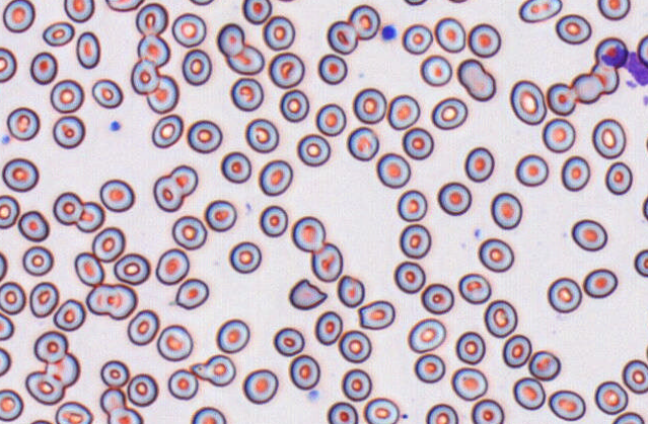PLT: (382, 23, 397, 42), (308, 389, 322, 404), (109, 118, 123, 132), (0, 133, 12, 146)
RBC: (85, 282, 137, 320), (456, 58, 496, 101), (509, 79, 546, 125), (591, 118, 626, 159), (192, 354, 236, 386), (407, 317, 446, 353), (156, 324, 193, 361), (25, 370, 64, 405), (310, 241, 343, 282), (268, 51, 304, 88), (1, 157, 39, 192), (146, 74, 179, 114), (242, 368, 278, 404), (258, 159, 293, 196), (450, 366, 487, 401), (547, 276, 582, 313), (477, 237, 514, 272), (155, 247, 189, 285), (483, 299, 517, 337), (376, 152, 411, 188), (171, 215, 207, 250), (244, 117, 279, 153), (291, 215, 325, 252), (352, 87, 386, 124), (49, 78, 84, 113), (171, 12, 206, 47), (215, 318, 250, 353), (91, 226, 125, 262), (99, 178, 135, 212), (467, 22, 501, 58), (431, 96, 467, 130), (386, 94, 420, 130), (186, 119, 222, 153), (126, 308, 159, 345), (113, 252, 150, 285), (226, 43, 264, 75), (490, 191, 522, 229), (46, 352, 80, 387), (594, 380, 628, 415), (6, 106, 40, 141), (347, 4, 380, 40), (542, 117, 575, 153), (571, 218, 607, 251), (555, 13, 592, 45), (548, 389, 585, 421), (434, 16, 466, 53), (357, 299, 395, 330), (337, 329, 371, 363), (514, 153, 548, 187), (437, 181, 471, 215), (33, 330, 68, 363), (262, 15, 295, 50), (346, 126, 379, 161), (398, 223, 431, 258), (288, 354, 320, 390), (181, 48, 212, 85), (135, 2, 168, 36), (512, 376, 545, 410), (230, 77, 263, 111), (52, 115, 85, 149), (296, 133, 330, 166), (151, 113, 183, 148), (582, 267, 618, 298), (153, 175, 183, 212), (137, 34, 170, 67), (52, 298, 85, 331), (2, 0, 35, 33), (228, 240, 261, 273), (204, 199, 237, 232), (594, 36, 628, 68), (126, 373, 158, 407), (326, 20, 358, 54), (175, 277, 209, 309), (401, 126, 433, 160), (420, 282, 454, 314), (29, 281, 59, 317), (560, 155, 590, 191), (464, 146, 494, 182), (419, 54, 452, 86), (458, 272, 491, 304), (393, 260, 425, 293), (52, 191, 83, 225), (546, 82, 577, 116), (315, 102, 346, 136), (74, 251, 104, 286), (130, 58, 159, 94), (17, 210, 49, 242), (570, 72, 603, 103), (341, 368, 372, 401), (279, 88, 309, 122), (502, 333, 531, 368), (518, 0, 562, 23), (167, 368, 198, 400), (220, 151, 251, 183), (528, 350, 560, 381), (401, 23, 433, 54), (91, 78, 123, 109), (396, 189, 427, 221), (258, 204, 288, 237), (455, 331, 485, 364), (216, 22, 245, 56), (314, 310, 342, 345), (22, 245, 53, 276), (413, 353, 445, 383), (273, 326, 305, 356), (336, 274, 365, 307), (605, 161, 633, 195), (75, 31, 100, 69), (363, 397, 399, 423), (75, 201, 105, 232), (317, 53, 347, 84), (591, 61, 619, 94), (29, 51, 57, 84), (622, 359, 647, 394), (0, 281, 26, 314), (470, 398, 504, 423), (100, 359, 129, 388), (55, 401, 93, 423), (42, 21, 74, 46), (0, 388, 23, 421), (99, 387, 126, 414), (242, 0, 272, 24), (326, 401, 358, 423), (63, 0, 94, 22), (0, 194, 19, 229), (597, 0, 630, 20), (425, 403, 458, 423), (107, 406, 143, 423), (0, 46, 17, 82), (190, 406, 226, 423), (105, 0, 144, 12), (633, 248, 647, 277), (611, 411, 644, 423), (0, 312, 14, 340), (637, 34, 647, 66), (0, 347, 11, 376), (0, 250, 8, 281), (642, 194, 648, 221), (189, 0, 214, 6), (403, 0, 427, 6), (29, 418, 53, 423), (644, 307, 648, 334), (644, 132, 648, 158), (446, 0, 468, 3), (645, 341, 648, 363)
Schistocyte: (289, 278, 328, 310)
